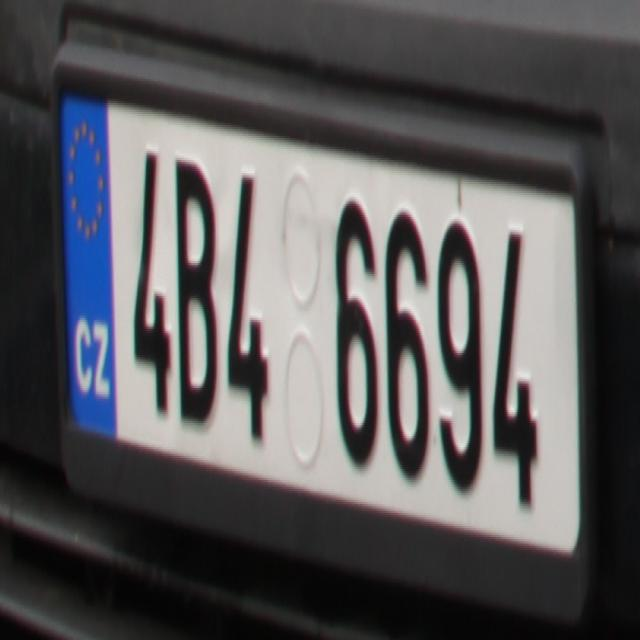4: (491, 228, 546, 517), (225, 166, 274, 438), (130, 144, 171, 418)
6: (382, 202, 432, 482), (334, 193, 378, 465)
9: (437, 210, 483, 500)
B: (174, 153, 218, 432)
